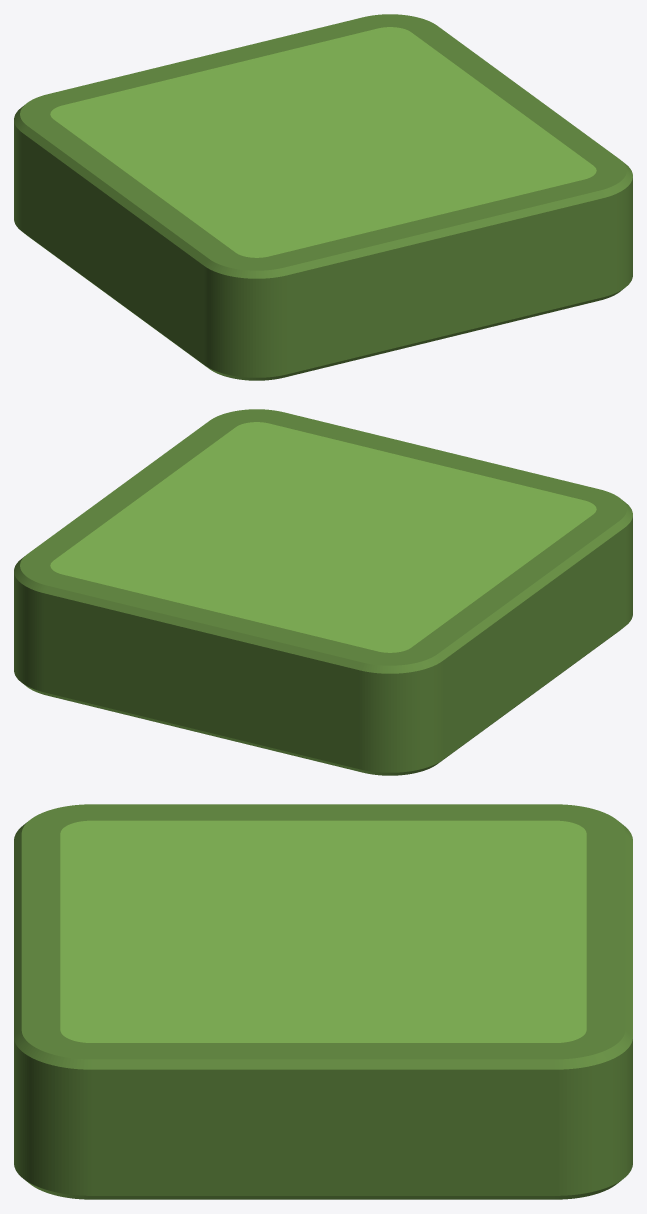
Rendered from grass_tile.glb.
The picture shows the model from 3 angles, top to bottom: view 1: azimuth 30°, elevation 25°; view 2: azimuth 150°, elevation 25°; view 3: azimuth 270°, elevation 25°; orthographic projection. The views are drawn at different scales.
Visible parts, largest first — view 1: grass_tile; view 2: grass_tile; view 3: grass_tile.
Boxes of the visible parts, bbox=[...] form: grass_tile: bbox=[14, 14, 632, 380]; grass_tile: bbox=[14, 409, 632, 775]; grass_tile: bbox=[14, 804, 632, 1199].
Bounding box in the file's own units: 16 × 4 × 16.
